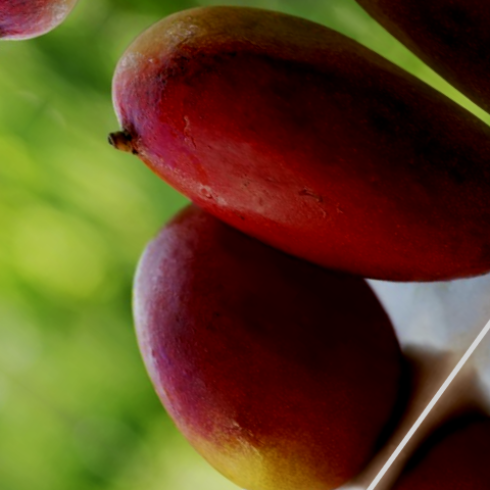mango: (54, 0, 490, 409), (46, 134, 483, 490)
